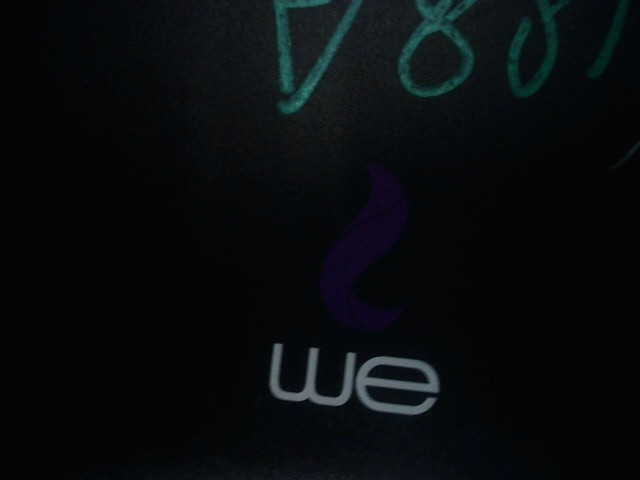AT_We: (263, 158, 451, 416)
